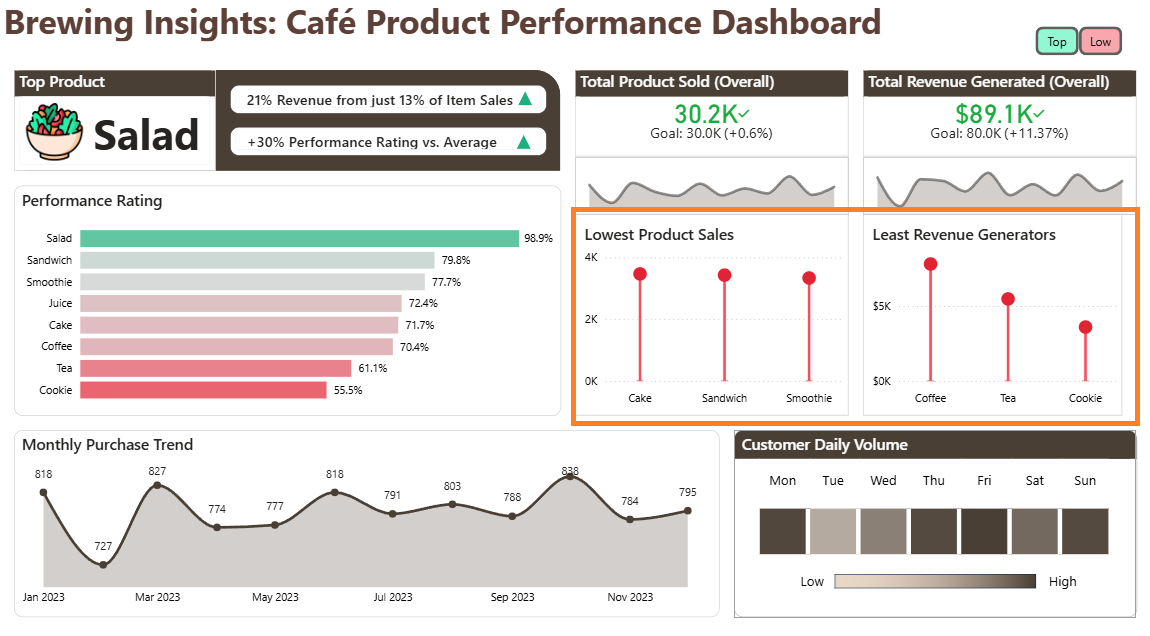

This screenshot's page, from the dashboard's own definition file:
{"tool":"powerbi","page":{"name":"Page 1","canvas":[1280,720],"ordinal":0},"visuals":[{"type":"shape","box":[32,80,592,112],"z":0},{"type":"lineChart","fields":{"Category":["cafe_sales_clean.transaction_date.Variation.Date Hierarchy.Year","cafe_sales_clean.transaction_date.Variation.Date Hierarchy.Quarter","cafe_sales_clean.transaction_date.Variation.Date Hierarchy.Month"],"Y":["Sum(cafe_sales_clean.quantity)"]},"box":[640,176,304,64],"z":1000},{"type":"lineChart","title":"Monthly Purchase Trend","fields":{"Y":["CountNonNull(cafe_sales_clean.transaction_id)"],"Category":["cafe_sales_clean.transaction_date.Variation.Date Hierarchy.Year","cafe_sales_clean.transaction_date.Variation.Date Hierarchy.Quarter","cafe_sales_clean.transaction_date.Variation.Date Hierarchy.Month"]},"box":[16,480,784,208],"z":2000},{"type":"kpi","title":"Total Product Sold (Overall)","fields":{"Goal":["cafe_sales_clean.Target Product Sales"],"TrendLine":["cafe_sales_clean.transaction_date"],"Indicator":["cafe_sales_clean.Total Products Sold"]},"box":[640,80,304,96],"z":3000},{"type":"clusteredBarChart","title":"Performance Rating","fields":{"Category":["cafe_sales_clean.item"],"Y":["cafe_sales_clean.Performance Rating"]},"box":[16,208,608,256],"z":4000},{"type":"textbox","title":"Brewing Insights: Café Product Performance Dashboard","box":[0,0,1040,48],"z":5000},{"type":"lineChart","title":"Highest Product Sales","fields":{"Y":["Sum(cafe_sales_clean.quantity)"],"Category":["cafe_sales_clean.item"]},"box":[640,240,304,224],"z":6000},{"type":"lineChart","title":"Top Revenue Generators","fields":{"Y":["Sum(cafe_sales_clean.total_spent)"],"Category":["cafe_sales_clean.item"]},"box":[960,240,304,224],"z":7000},{"type":"cardVisual","title":"Top Product","fields":{"Data":["cafe_sales_clean.Top Item"]},"box":[16,80,224,112],"z":8000},{"type":"pivotTable","title":"Customer Daily Volume","fields":{"Columns":["cafe_sales_clean.DayName"],"Values":["cafe_sales_clean.Customer Volume"]},"box":[816,480,448,208],"z":9000},{"type":"image","box":[21,116,80,64],"z":10000},{"type":"cardVisual","fields":{"Data":["cafe_sales_clean.KPI RevenueQty Line"]},"box":[256,96,352,32],"z":11000},{"type":"shape","box":[576,104,16,16],"z":12000},{"type":"image","box":[928,640,224,16],"z":13000},{"type":"textbox","box":[882,632,336,48],"z":14000},{"type":"actionButton","title":"Top Performer","box":[1152,32,48,32],"z":17000},{"type":"actionButton","title":"Low Performer","box":[1200,32,48,32],"z":18000},{"type":"lineChart","fields":{"Category":["cafe_sales_clean.transaction_date.Variation.Date Hierarchy.Year","cafe_sales_clean.transaction_date.Variation.Date Hierarchy.Quarter","cafe_sales_clean.transaction_date.Variation.Date Hierarchy.Month"],"Y":["Sum(cafe_sales_clean.total_spent)"]},"box":[960,176,304,64],"z":19000},{"type":"cardVisual","fields":{"Data":["cafe_sales_clean.KPI Performance Line"]},"box":[256,144,352,32],"z":20000},{"type":"shape","box":[575,151,16,16],"z":21000},{"type":"kpi","title":"Total Revenue Generated (Overall)","fields":{"TrendLine":["cafe_sales_clean.transaction_date"],"Indicator":["cafe_sales_clean.Total Revenue Generated"],"Goal":["cafe_sales_clean.Target Revenue"]},"box":[960,80,304,96],"z":22000}]}

Visuals, with their boxes in screenshot pixels (x1, y1, x2, y2), scaled from the page's 1280x720 canvas onto the 1150x636 screenshot:
shape: (x1=29, y1=71, x2=561, y2=170)
lineChart - cafe_sales_clean.transaction_date.Variation.Date Hierarchy.Year x cafe_sales_clean.transaction_date.Variation.Date Hierarchy.Quarter: (x1=575, y1=155, x2=848, y2=212)
"Monthly Purchase Trend" lineChart: (x1=14, y1=424, x2=719, y2=608)
"Total Product Sold (Overall)" kpi: (x1=575, y1=71, x2=848, y2=155)
"Performance Rating" clusteredBarChart: (x1=14, y1=184, x2=561, y2=410)
"Brewing Insights: Café Product Performance Dashboard" textbox: (x1=0, y1=0, x2=934, y2=42)
"Highest Product Sales" lineChart: (x1=575, y1=212, x2=848, y2=410)
"Top Revenue Generators" lineChart: (x1=862, y1=212, x2=1136, y2=410)
"Top Product" cardVisual: (x1=14, y1=71, x2=216, y2=170)
"Customer Daily Volume" pivotTable: (x1=733, y1=424, x2=1136, y2=608)
image: (x1=19, y1=102, x2=91, y2=159)
cardVisual - cafe_sales_clean.KPI RevenueQty Line: (x1=230, y1=85, x2=546, y2=113)
shape: (x1=518, y1=92, x2=532, y2=106)
image: (x1=834, y1=565, x2=1035, y2=579)
textbox: (x1=792, y1=558, x2=1094, y2=601)
"Top Performer" actionButton: (x1=1035, y1=28, x2=1078, y2=57)
"Low Performer" actionButton: (x1=1078, y1=28, x2=1121, y2=57)
lineChart - cafe_sales_clean.transaction_date.Variation.Date Hierarchy.Year x cafe_sales_clean.transaction_date.Variation.Date Hierarchy.Quarter: (x1=862, y1=155, x2=1136, y2=212)
cardVisual - cafe_sales_clean.KPI Performance Line: (x1=230, y1=127, x2=546, y2=155)
shape: (x1=517, y1=133, x2=531, y2=148)
"Total Revenue Generated (Overall)" kpi: (x1=862, y1=71, x2=1136, y2=155)
